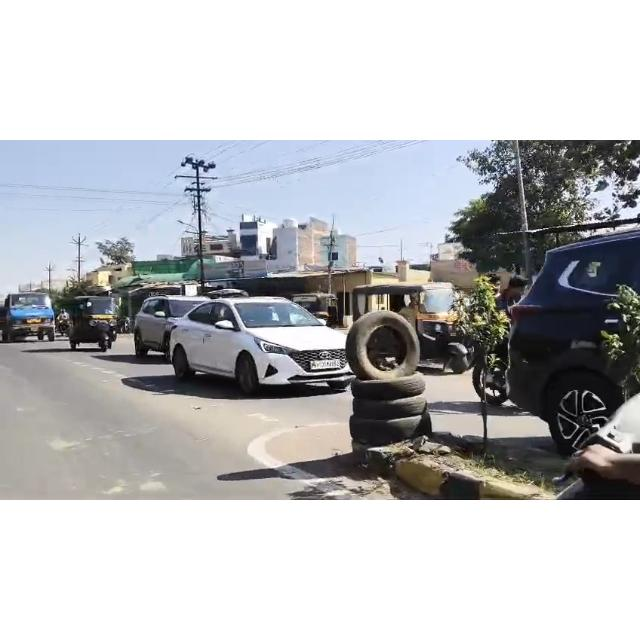auto: (350, 284, 475, 368), (73, 296, 127, 356)
car: (498, 232, 639, 460), (170, 295, 373, 402), (126, 296, 221, 364)
truck: (4, 293, 64, 343)
